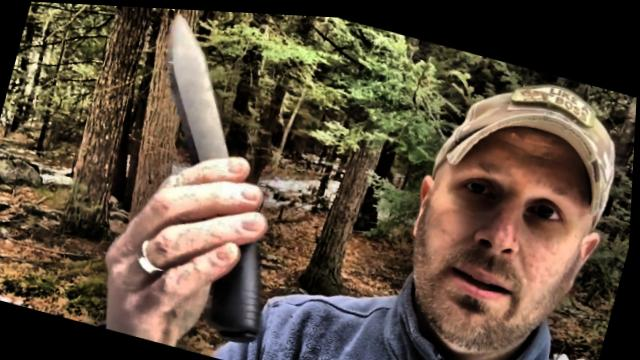knife: (115, 5, 320, 245)
